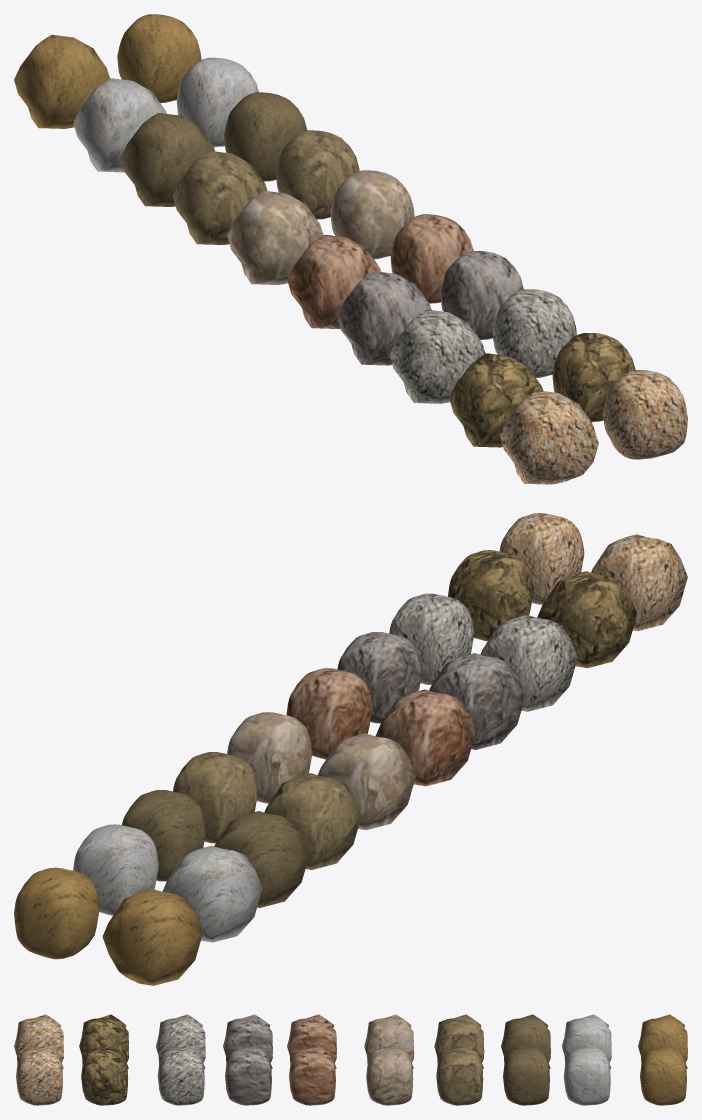
Rendered from Rock_V2.fbx.
3 renders of one model, top to bottom at view 1: azimuth 30°, elevation 25°; view 2: azimuth 150°, elevation 25°; view 3: azimuth 270°, elevation 25°, orthographic. The views are drawn at different scales.
Visible parts, largest first — view 1: Rock_02_Low_1, Rock_02_High_1, Rock_02_Low_6, Rock_02_Low_3, Rock_02_Low_10, Rock_02_Low_7, Rock_02_Low_4, Rock_02_Low_8, Rock_02_Low_2, Rock_02_Low_5, Rock_02_High_6, Rock_02_High_3 (+8 smaller); view 2: Rock_02_Low_10, Rock_02_High_10, Rock_02_Low_5, Rock_02_Low_2, Rock_02_Low_9, Rock_02_Low_6, Rock_02_Low_3, Rock_02_Low_7, Rock_02_Low_1, Rock_02_Low_4, Rock_02_High_5, Rock_02_High_2 (+8 smaller); view 3: Rock_02_High_7, Rock_02_High_1, Rock_02_High_5, Rock_02_High_8, Rock_02_High_10, Rock_02_High_2, Rock_02_High_4, Rock_02_High_6, Rock_02_High_9, Rock_02_High_3, Rock_02_Low_3, Rock_02_Low_9 (+8 smaller).
Part boxes in pixels (x1,y1,x2,y2): Rock_02_Low_1: [500, 390, 598, 484]; Rock_02_High_1: [603, 370, 687, 459]; Rock_02_Low_6: [227, 191, 323, 284]; Rock_02_Low_3: [389, 309, 485, 403]; Rock_02_Low_10: [14, 34, 109, 128]; Rock_02_Low_7: [172, 151, 267, 244]; Rock_02_Low_4: [337, 271, 431, 365]; Rock_02_Low_8: [121, 113, 214, 206]; Rock_02_Low_2: [449, 353, 543, 447]; Rock_02_Low_5: [287, 235, 381, 328]; Rock_02_High_6: [330, 170, 414, 259]; Rock_02_High_3: [493, 289, 576, 377]; Rock_02_Low_10: [102, 889, 203, 985]; Rock_02_High_10: [14, 867, 99, 959]; Rock_02_Low_5: [375, 689, 475, 786]; Rock_02_Low_2: [537, 571, 637, 668]; Rock_02_Low_9: [162, 845, 262, 942]; Rock_02_Low_6: [318, 733, 415, 830]; Rock_02_Low_3: [480, 615, 577, 711]; Rock_02_Low_7: [264, 773, 361, 869]; Rock_02_Low_1: [591, 534, 687, 630]; Rock_02_Low_4: [429, 653, 525, 749]; Rock_02_High_5: [286, 668, 372, 759]; Rock_02_High_2: [448, 550, 533, 641]; Rock_02_High_7: [436, 1047, 483, 1105]; Rock_02_High_1: [16, 1047, 62, 1105]; Rock_02_High_5: [289, 1047, 335, 1105]; Rock_02_High_8: [503, 1047, 549, 1105]; Rock_02_High_10: [640, 1047, 686, 1105]; Rock_02_High_2: [81, 1047, 128, 1105]; Rock_02_High_4: [225, 1047, 271, 1105]; Rock_02_High_6: [366, 1047, 413, 1105]; Rock_02_High_9: [563, 1047, 610, 1105]; Rock_02_High_3: [157, 1047, 204, 1105]; Rock_02_Low_3: [155, 1014, 205, 1068]; Rock_02_Low_9: [562, 1014, 611, 1068].
Bounding box in the file's own units: 0.0367 × 0.017 × 0.2026.
